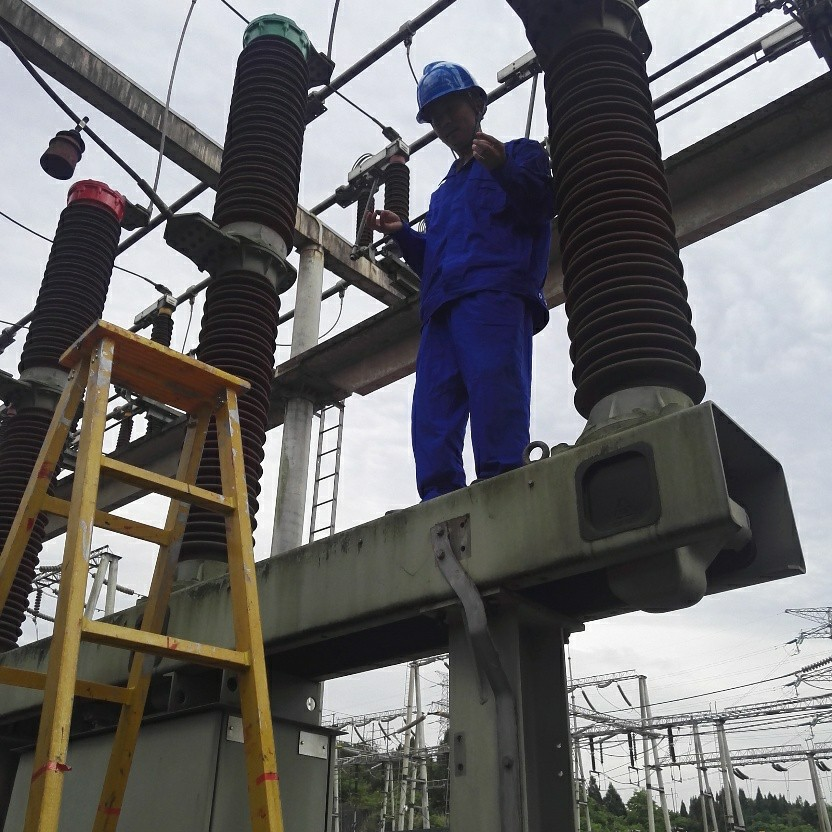hat: (412, 56, 492, 154)
